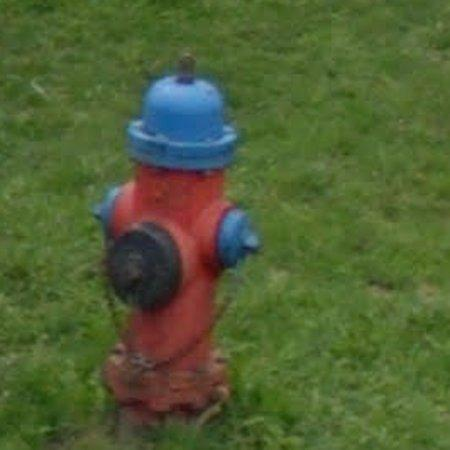a fire hydrant: (98, 70, 260, 423)
